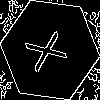X: (25, 25, 76, 74)
